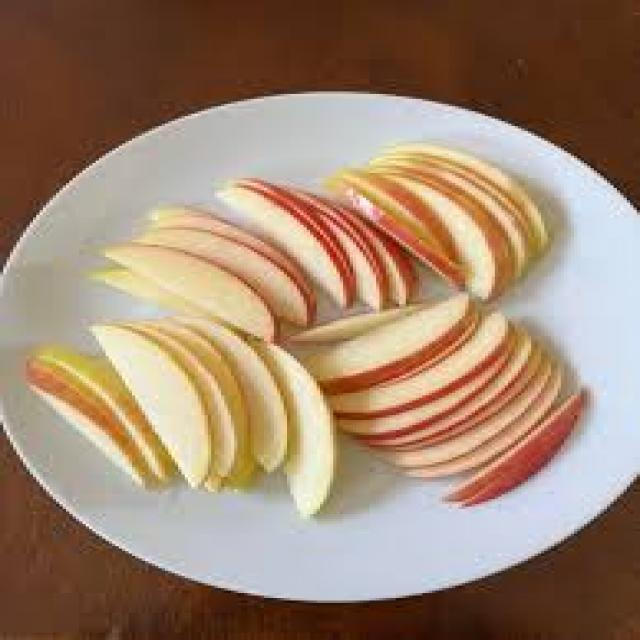Apple: (94, 326, 219, 491), (115, 247, 270, 344), (29, 357, 142, 489), (238, 191, 349, 299), (363, 172, 475, 275), (304, 299, 460, 372), (492, 391, 588, 504), (274, 353, 340, 513)
